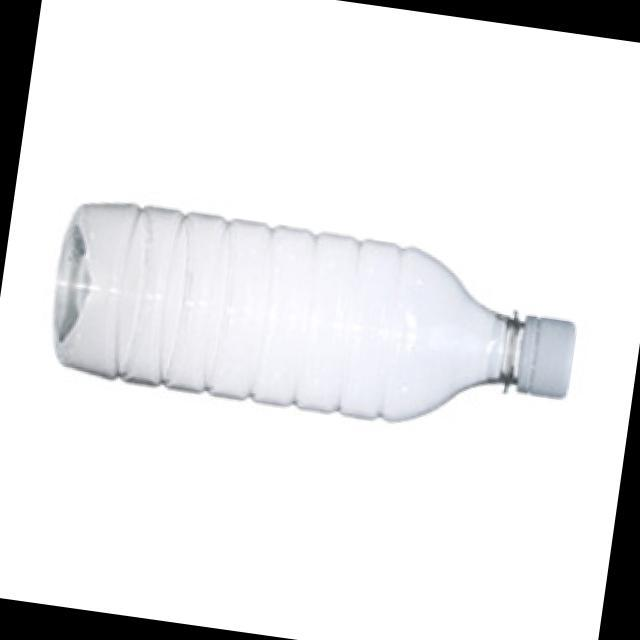good: (23, 150, 604, 516)
